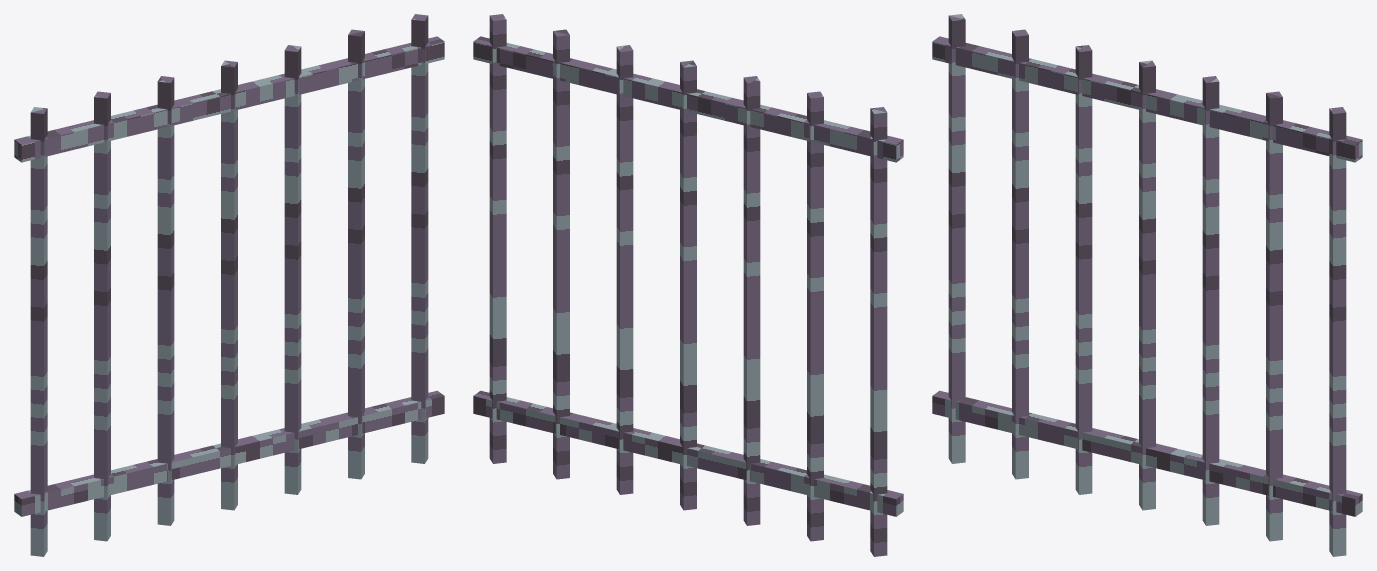
Rendered from a78_cela_com_grades.glb.
The picture shows the model from 3 angles, left to right: view 1: azimuth 30°, elevation 25°; view 2: azimuth 150°, elevation 25°; view 3: azimuth 330°, elevation 25°; orthographic projection.
Parts seen in each view (by area): view 1: a78_cela_com_grades; view 2: a78_cela_com_grades; view 3: a78_cela_com_grades.
Part boxes in pixels (x1,y1,x2,y2): a78_cela_com_grades: [14, 14, 444, 556]; a78_cela_com_grades: [473, 14, 903, 556]; a78_cela_com_grades: [932, 14, 1362, 556].
Size of the model in its own units: 2 by 2 by 0.08.
1 material, 1 textured.
